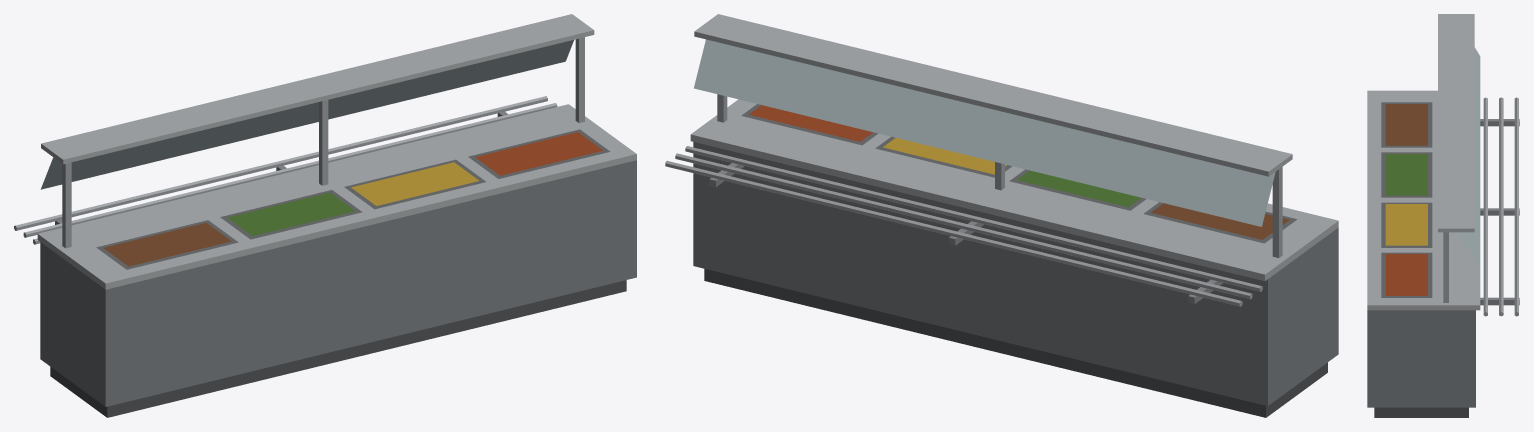
File: shop.serving_line.steel.glb
3 views of the same model, side by side, from view 1: azimuth 30°, elevation 25°; view 2: azimuth 150°, elevation 25°; view 3: azimuth 270°, elevation 25° (orthographic). The views are drawn at different scales.
Visible parts, largest first — view 1: shop_serving_line_steel; view 2: shop_serving_line_steel; view 3: shop_serving_line_steel.
Part boxes in pixels (x1,y1,x2,y2): shop_serving_line_steel: (14, 14, 636, 417); shop_serving_line_steel: (665, 14, 1338, 417); shop_serving_line_steel: (1367, 14, 1519, 417).
Size of what is drawn, in the model's own units: 3.6 by 1.5 by 1.08.
